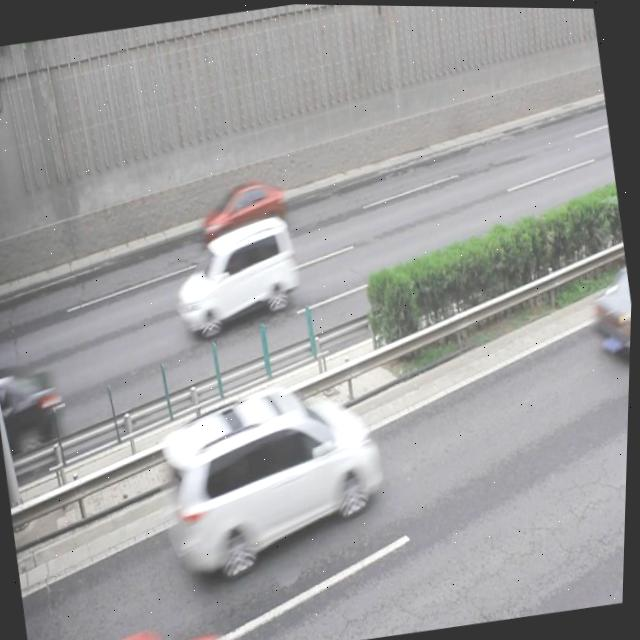car: (151, 367, 396, 583), (166, 213, 309, 343), (198, 174, 292, 250), (587, 259, 634, 366), (75, 612, 244, 640)
